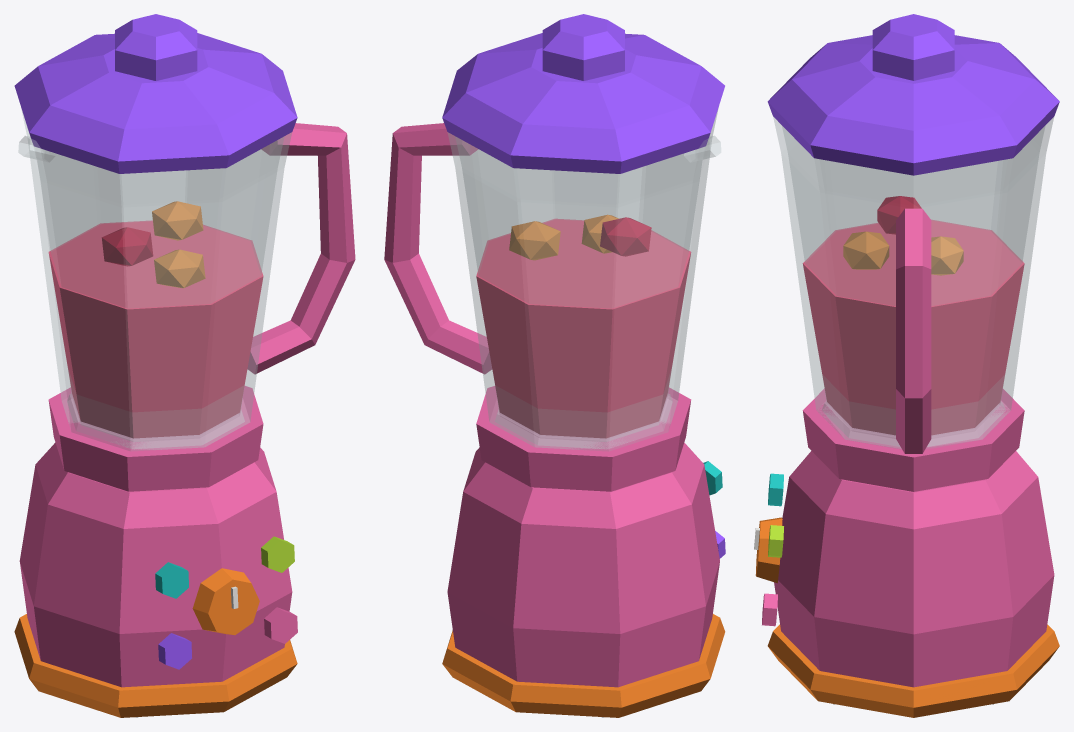
3 renders of one model, left to right at view 1: azimuth 30°, elevation 25°; view 2: azimuth 150°, elevation 25°; view 3: azimuth 270°, elevation 25°, orthographic.
Visible parts, largest first — view 1: jar_wall, base_housing, smoothie, lid_shell, jar_collar, jar_handle, foot_ring, filler_cap, speed_dial, jar_floor, fruit_0, fruit_1 (+6 smaller); view 2: jar_wall, base_housing, smoothie, lid_shell, jar_collar, jar_handle, foot_ring, filler_cap, jar_floor, fruit_0, fruit_1, fruit_2 (+1 smaller); view 3: jar_wall, base_housing, smoothie, lid_shell, jar_collar, foot_ring, jar_handle, filler_cap, jar_floor, fruit_2, fruit_0, speed_dial (+1 smaller).
Part boxes in pixels (x1,y1,x2,y2): jar_wall: [21, 109, 291, 451]; base_housing: [19, 442, 292, 687]; smoothie: [48, 220, 263, 438]; lid_shell: [14, 33, 297, 173]; jar_collar: [48, 386, 263, 491]; jar_handle: [247, 123, 355, 374]; foot_ring: [14, 614, 297, 717]; filler_cap: [115, 14, 197, 80]; speed_dial: [192, 568, 259, 635]; jar_floor: [67, 394, 244, 448]; fruit_0: [152, 201, 203, 240]; fruit_1: [102, 227, 153, 266]; jar_wall: [447, 111, 717, 451]; base_housing: [447, 443, 719, 687]; smoothie: [476, 219, 691, 438]; lid_shell: [442, 33, 724, 173]; jar_collar: [476, 386, 691, 491]; jar_handle: [384, 123, 492, 374]; foot_ring: [442, 614, 725, 717]; filler_cap: [542, 14, 624, 80]; jar_floor: [495, 394, 672, 448]; fruit_0: [509, 221, 560, 260]; fruit_1: [600, 217, 651, 256]; fruit_2: [581, 214, 618, 253]; jar_wall: [773, 117, 1053, 449]; base_housing: [774, 451, 1054, 687]; smoothie: [802, 220, 1024, 435]; lid_shell: [767, 35, 1059, 175]; jar_collar: [802, 389, 1024, 491]; foot_ring: [767, 624, 1059, 717]; jar_handle: [896, 208, 931, 453]; filler_cap: [872, 14, 954, 80]; jar_floor: [822, 401, 1005, 446]; fruit_2: [843, 231, 889, 269]; fruit_0: [931, 236, 963, 275]; speed_dial: [755, 517, 782, 583].
Size of the model in its own units: 0.2808 by 0.524 by 0.2259.
